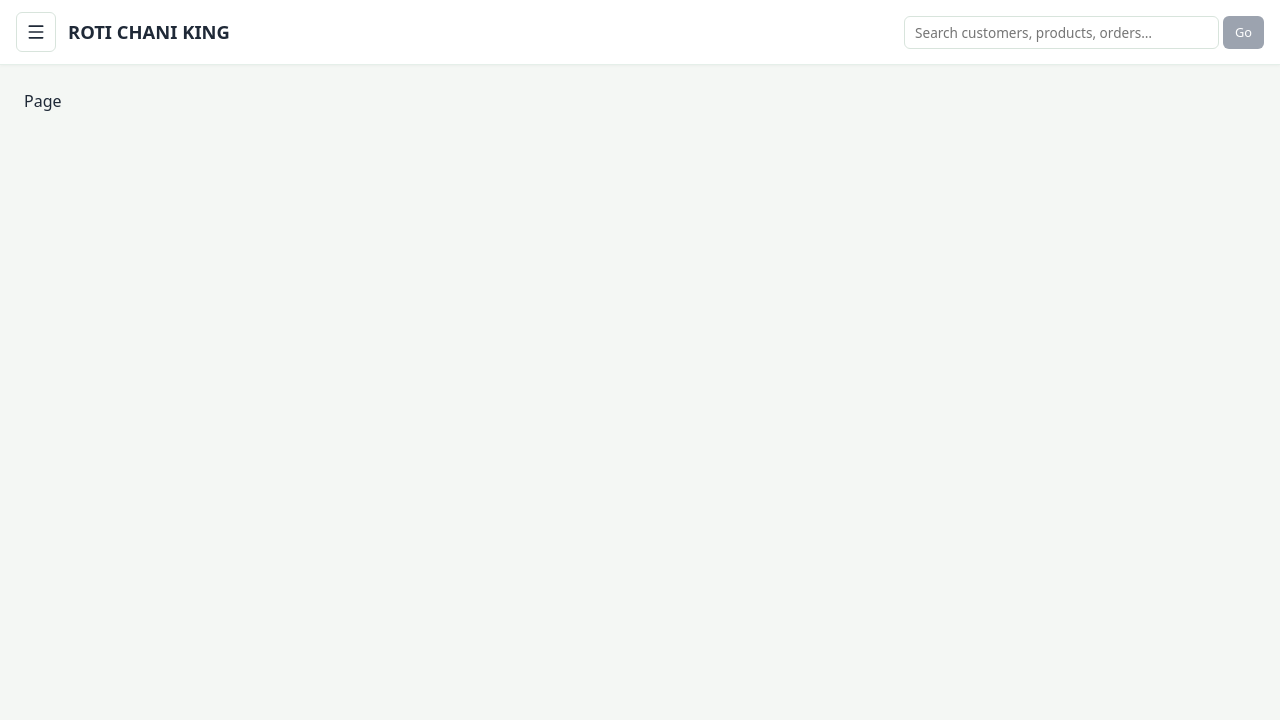
Test: Navigation Drawer › renders all nav links with correct grouping
Click the button named "open navigation" at {"x": 36, "y": 32}, box [16, 12, 56, 52]
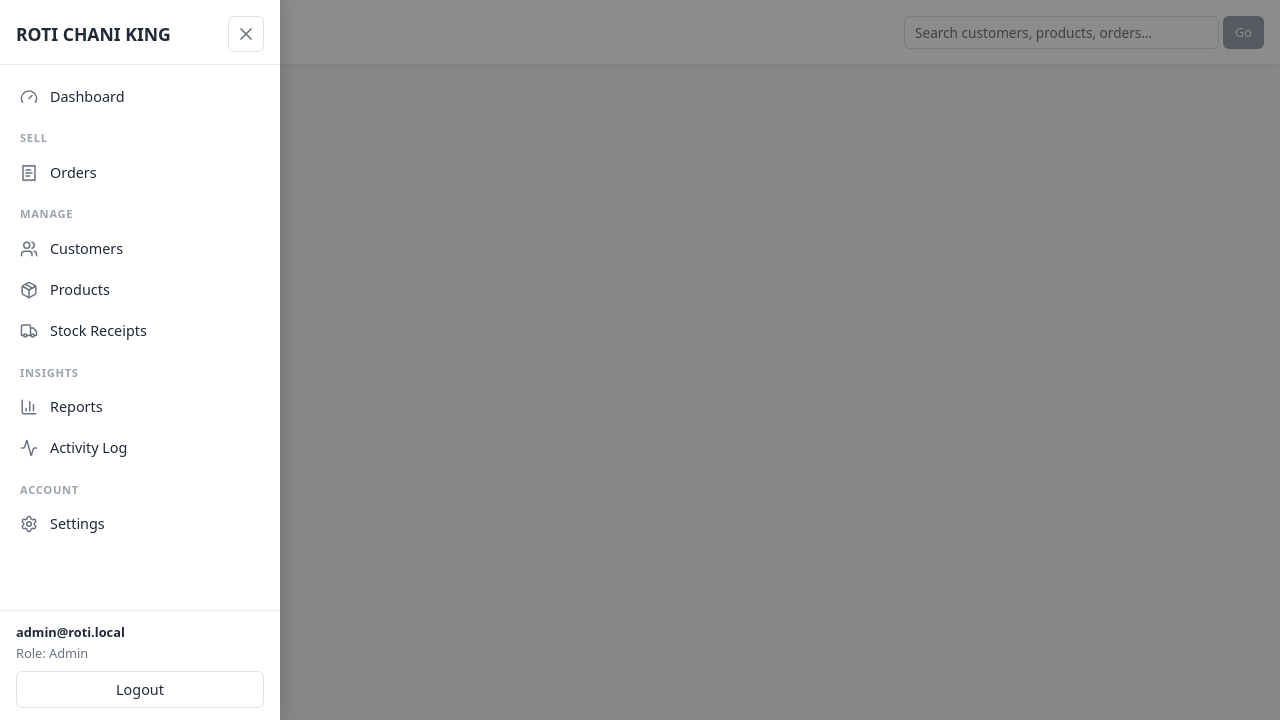
Now the text "Dashboard" is shown, box [50, 86, 124, 107]
Now the text "Sell" is shown, box [20, 130, 48, 145]
Now the text "Orders" is shown, box [50, 162, 97, 183]
